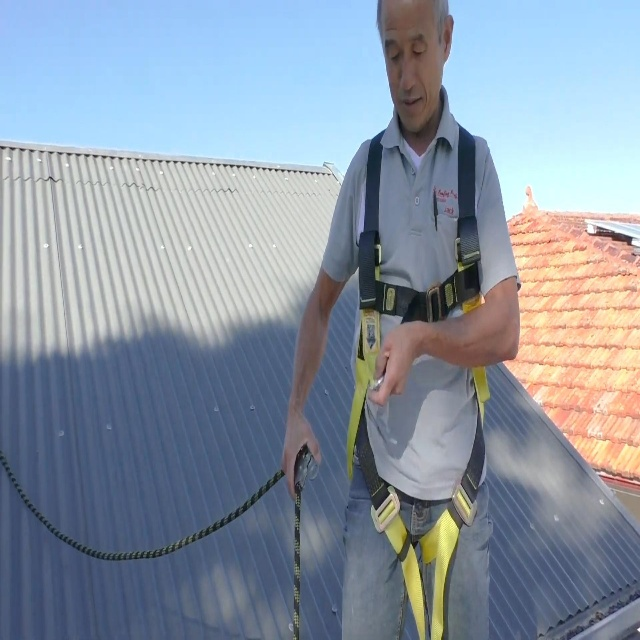Arnes_seguridad: (345, 109, 490, 640)
